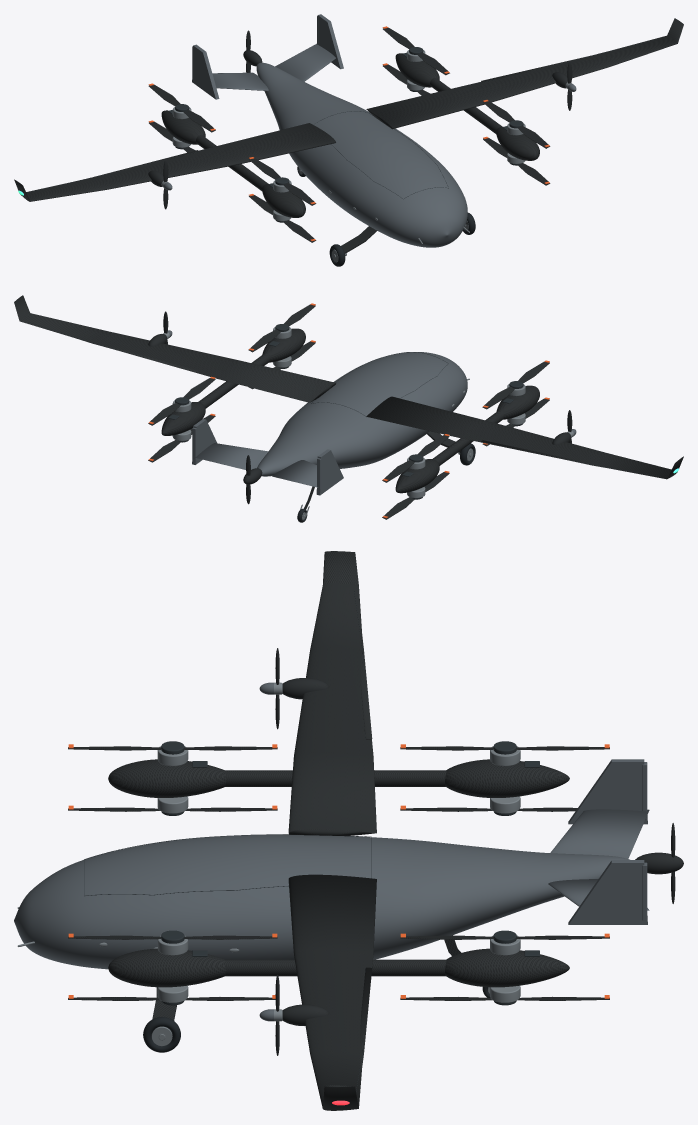
The picture shows the model from 3 angles, top to bottom: view 1: azimuth 30°, elevation 25°; view 2: azimuth 150°, elevation 25°; view 3: azimuth 270°, elevation 25°; orthographic projection. The views are drawn at different scales.
Parts seen in each view (by area): view 1: Fuselage_Shell, Right_Main_Wing, Left_Main_Wing, Right_Tailplane, Right_Front_Motor_Pod, Left_Front_Motor_Pod, Left_Vertical_Fin, Left_Rear_Motor_Pod, Right_Rear_Motor_Pod, Left_Tailplane, Right_Vertical_Fin, Left_Longitudinal_Boom (+1 smaller); view 2: Fuselage_Shell, Right_Main_Wing, Left_Main_Wing, Right_Tailplane, Left_Rear_Motor_Pod, Right_Rear_Motor_Pod, Left_Front_Motor_Pod, Right_Front_Motor_Pod, Left_Tailplane, Left_Vertical_Fin, Left_Longitudinal_Boom, Right_Longitudinal_Boom (+1 smaller); view 3: Fuselage_Shell, Left_Main_Wing, Right_Main_Wing, Right_Vertical_Fin, Right_Rear_Motor_Pod, Left_Rear_Motor_Pod, Left_Front_Motor_Pod, Right_Front_Motor_Pod, Left_Tailplane, Left_Vertical_Fin, Right_Longitudinal_Boom, Left_Longitudinal_Boom.
Boxes of the visible parts, left/top/right/bottom form: Fuselage_Shell: left=256, top=62, right=467, bottom=247; Right_Main_Wing: left=366, top=18, right=683, bottom=129; Left_Main_Wing: left=14, top=123, right=335, bottom=201; Right_Tailplane: left=275, top=43, right=335, bottom=81; Right_Front_Motor_Pod: left=496, top=126, right=539, bottom=160; Left_Front_Motor_Pod: left=262, top=184, right=305, bottom=217; Left_Vertical_Fin: left=192, top=44, right=219, bottom=99; Left_Rear_Motor_Pod: left=161, top=110, right=205, bottom=144; Right_Rear_Motor_Pod: left=395, top=53, right=439, bottom=87; Left_Tailplane: left=212, top=72, right=268, bottom=90; Right_Vertical_Fin: left=317, top=14, right=343, bottom=69; Left_Longitudinal_Boom: left=196, top=135, right=268, bottom=190; Fuselage_Shell: left=257, top=352, right=467, bottom=476; Right_Main_Wing: left=14, top=295, right=335, bottom=402; Left_Main_Wing: left=366, top=396, right=683, bottom=479; Right_Tailplane: left=193, top=443, right=268, bottom=469; Left_Rear_Motor_Pod: left=395, top=459, right=439, bottom=493; Right_Rear_Motor_Pod: left=161, top=402, right=205, bottom=435; Left_Front_Motor_Pod: left=496, top=385, right=539, bottom=419; Right_Front_Motor_Pod: left=262, top=328, right=305, bottom=362; Left_Tailplane: left=272, top=460, right=318, bottom=487; Left_Vertical_Fin: left=316, top=449, right=343, bottom=495; Left_Longitudinal_Boom: left=432, top=410, right=504, bottom=465; Right_Longitudinal_Boom: left=198, top=353, right=270, bottom=408; Fuselage_Shell: left=14, top=834, right=629, bottom=969; Left_Main_Wing: left=288, top=551, right=376, bottom=836; Right_Main_Wing: left=288, top=874, right=376, bottom=1110; Right_Vertical_Fin: left=568, top=860, right=647, bottom=924; Right_Rear_Motor_Pod: left=445, top=948, right=569, bottom=987; Left_Rear_Motor_Pod: left=445, top=759, right=569, bottom=797; Left_Front_Motor_Pod: left=108, top=759, right=226, bottom=797; Right_Front_Motor_Pod: left=108, top=948, right=226, bottom=987; Left_Tailplane: left=550, top=809, right=649, bottom=858; Left_Vertical_Fin: left=568, top=759, right=647, bottom=824; Right_Longitudinal_Boom: left=225, top=959, right=446, bottom=976; Left_Longitudinal_Boom: left=225, top=770, right=446, bottom=786.
Size of the model in its own units: 7 by 1.15 by 3.71.
8 materials, 1 textured.
